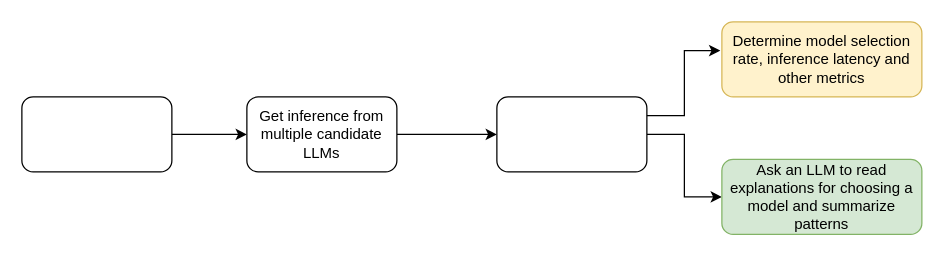
Some shapes in this 944 by 256 pixel diagram are drawn without their labels. Each missing label, with the box of its shape:
Dataset: (21, 96, 172, 172)
Use another "LLM as a judge" to evaluate outputs and provide explanation: (496, 96, 647, 172)
